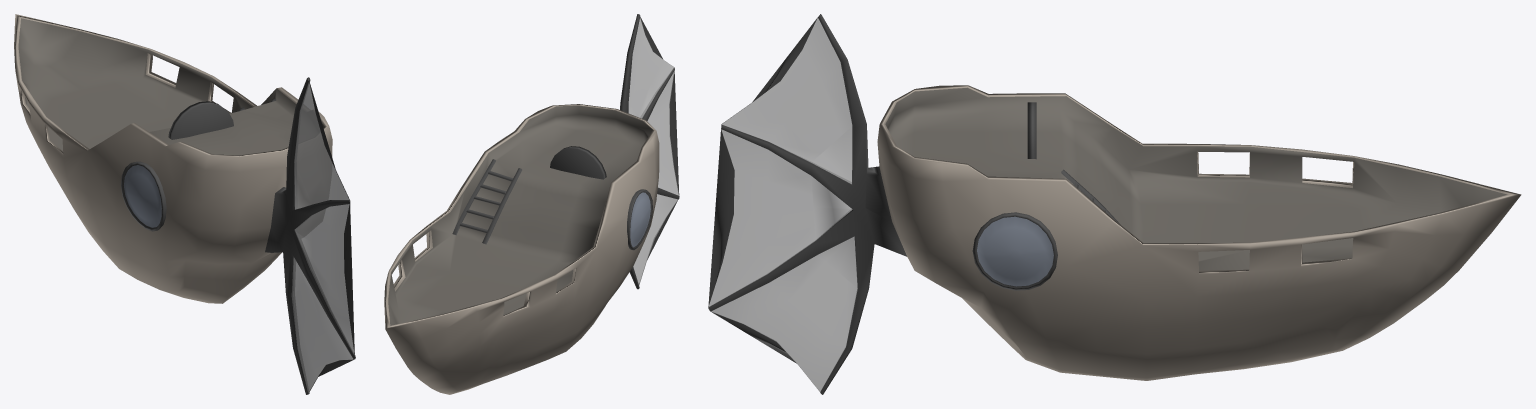
File: EnemyGlider.fbx
The picture shows the model from 3 angles, left to right: view 1: azimuth 30°, elevation 25°; view 2: azimuth 150°, elevation 25°; view 3: azimuth 270°, elevation 25°; orthographic projection. The views are drawn at different scales.
Visible parts, largest first — view 1: EnemyGlider, Window, Wheel; view 2: EnemyGlider, Wheel, Window; view 3: EnemyGlider, Window5.
Part boxes in pixels (box(x1,y1,x2,y2)): EnemyGlider: box(14, 14, 355, 394); Window: box(120, 161, 166, 231); Wheel: box(168, 101, 233, 139); EnemyGlider: box(384, 14, 679, 394); Wheel: box(550, 146, 606, 179); Window: box(627, 189, 652, 250); EnemyGlider: box(708, 14, 1521, 394); Window5: box(972, 212, 1057, 290).
Bounding box in the file's own units: 0.5906 × 1.02 × 1.97.
